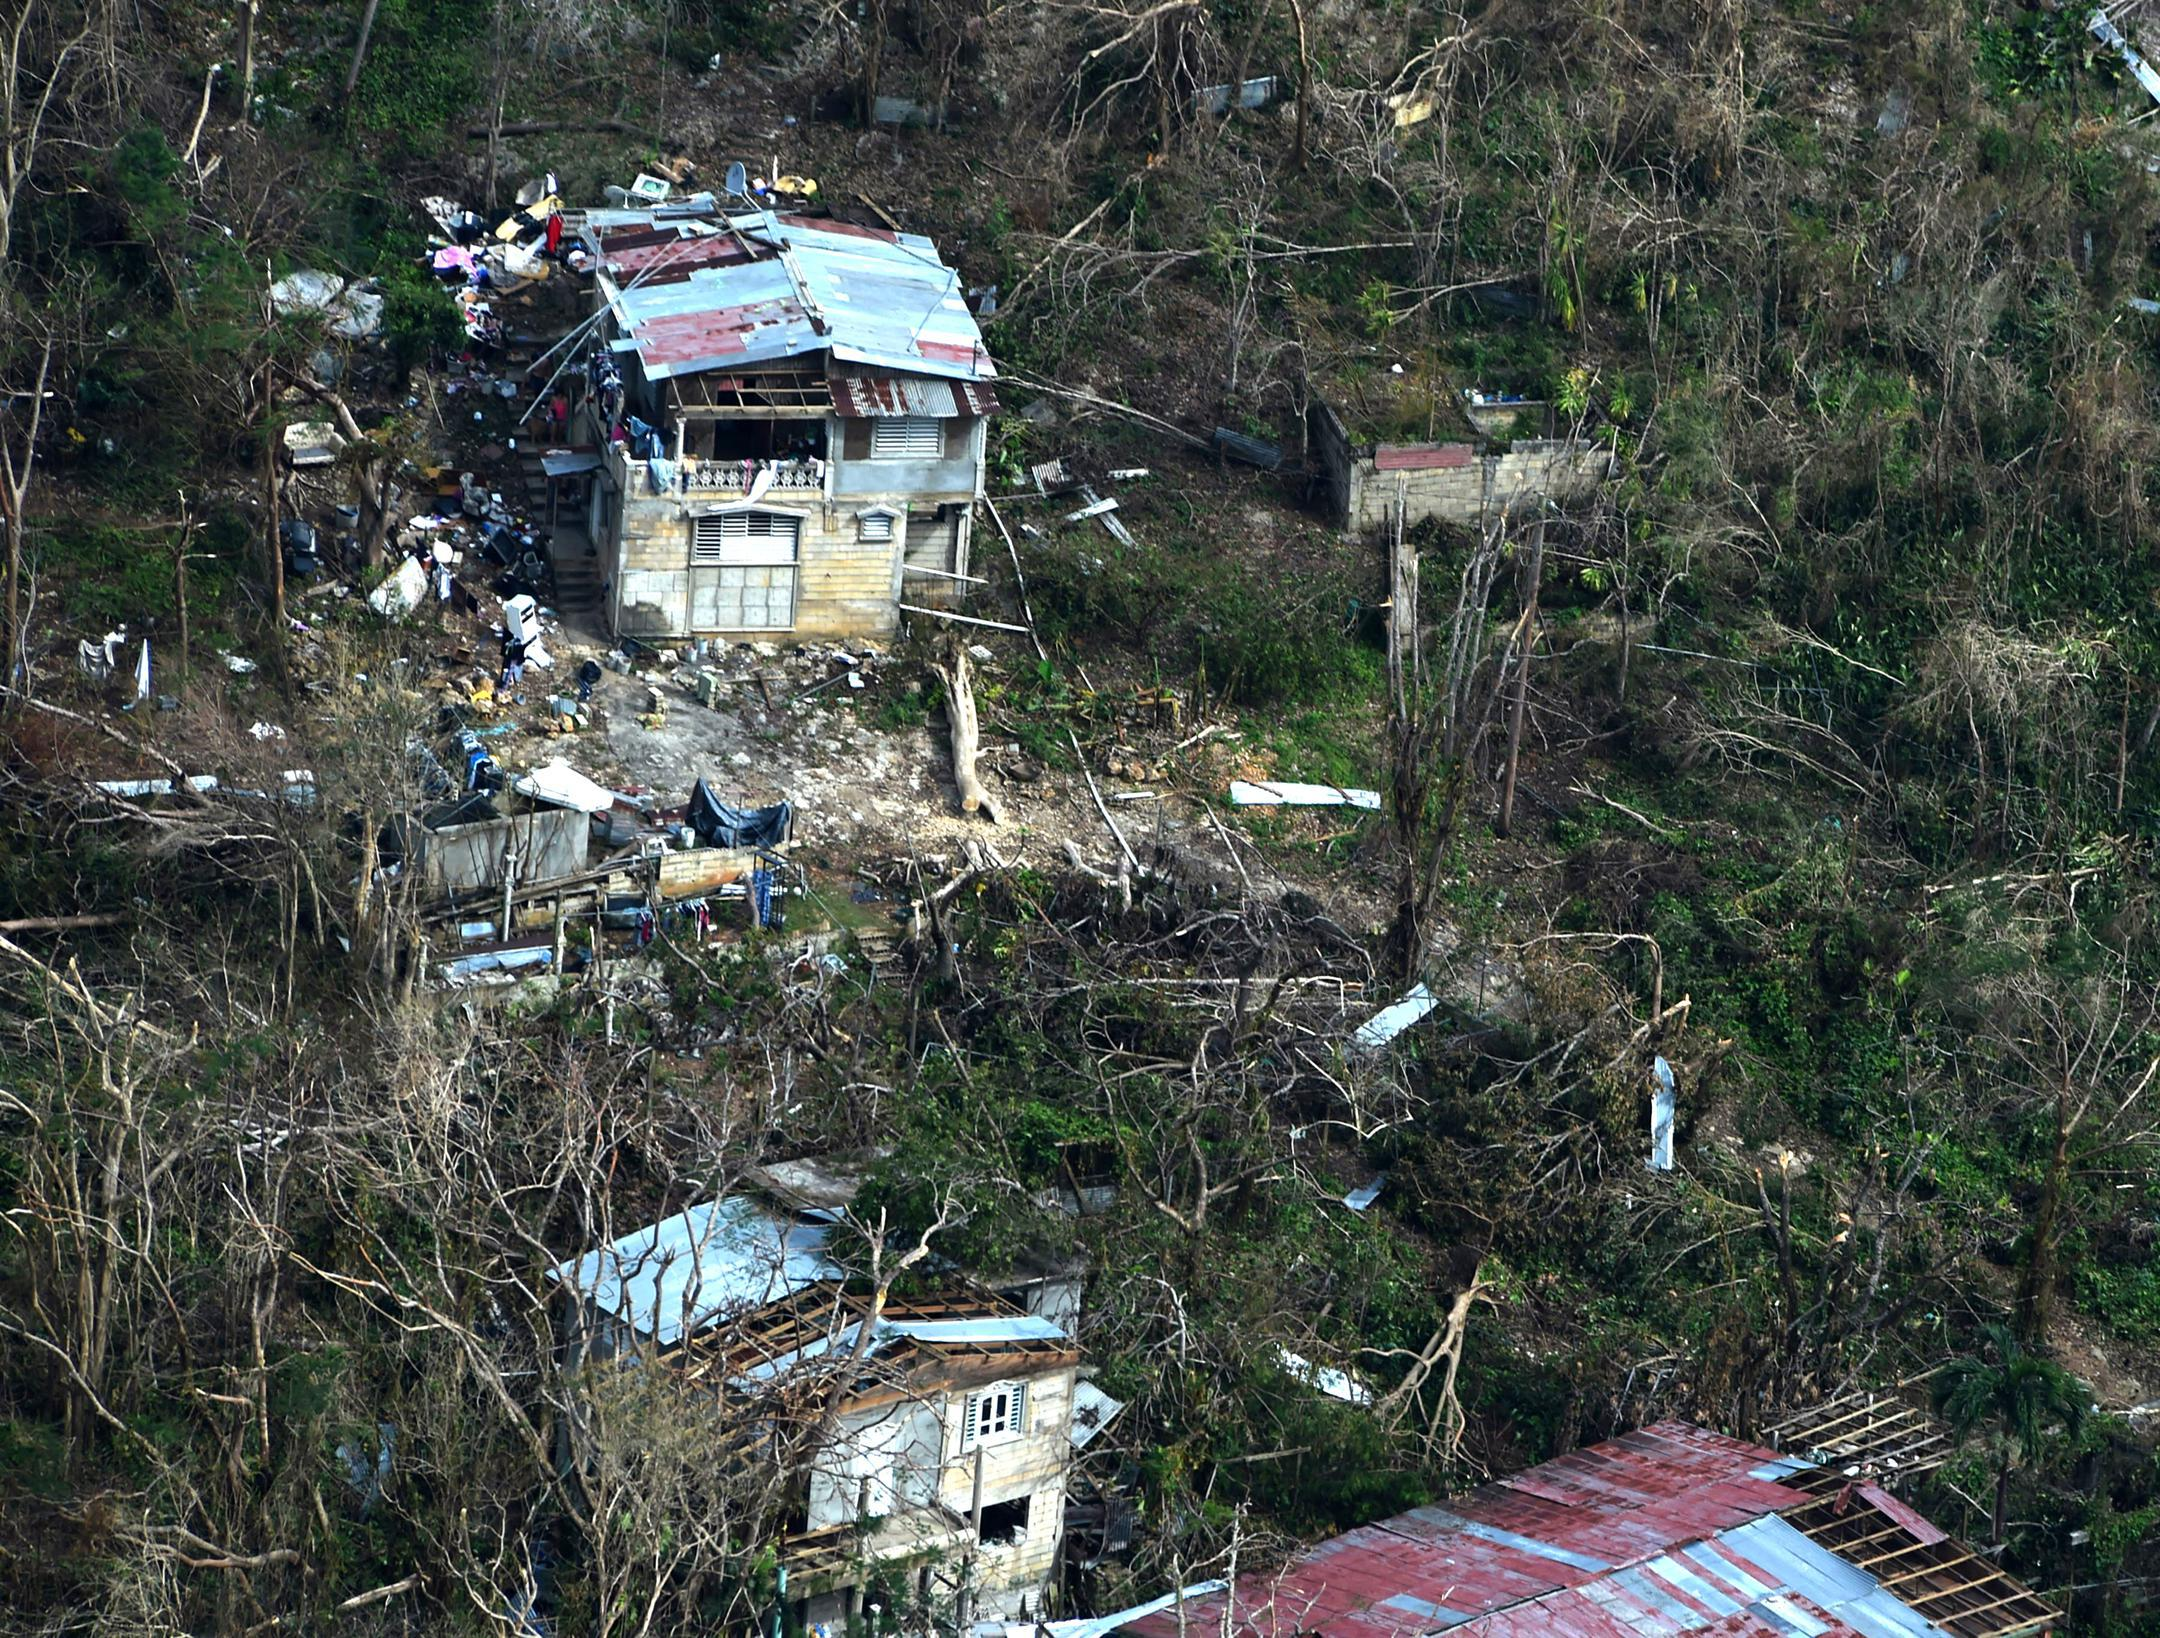destroyed: (318, 124, 1056, 950)
